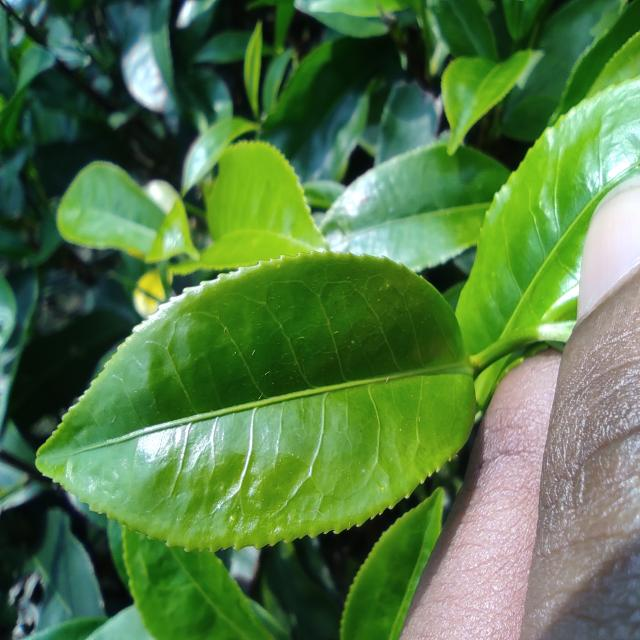Category C 4-7 days: (12, 237, 490, 567)
